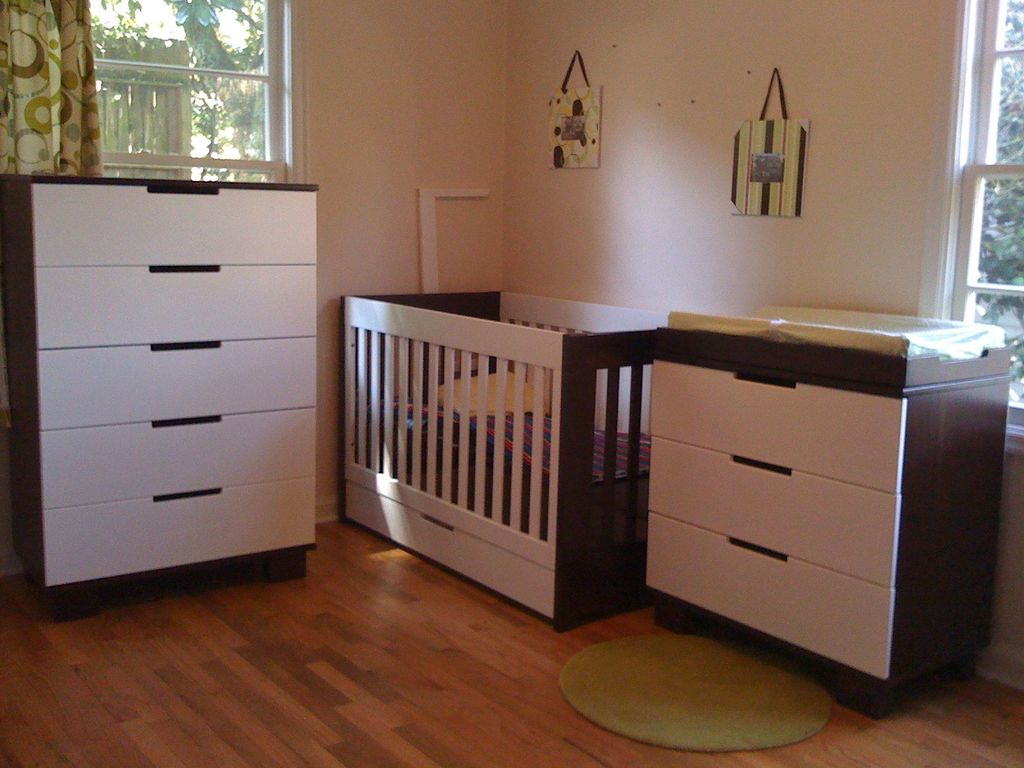cabinet door: (634, 507, 909, 635), (643, 429, 914, 554), (653, 349, 913, 464), (50, 471, 317, 565), (39, 186, 318, 265), (34, 263, 314, 337), (41, 338, 317, 411), (44, 425, 312, 489)
handle: (726, 532, 788, 570), (728, 450, 792, 482), (146, 481, 222, 507), (145, 180, 222, 203), (733, 368, 801, 394), (142, 261, 223, 281), (152, 409, 225, 431), (146, 336, 225, 356)
